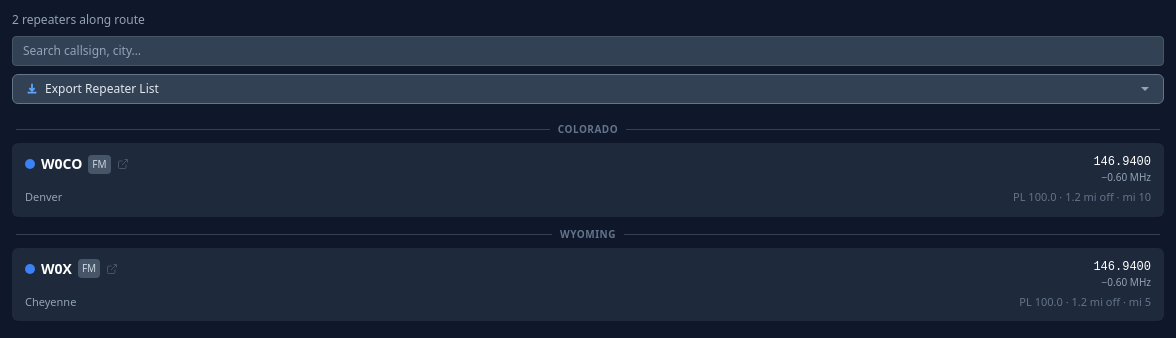
Test: RepeaterList — search › filters by city (case-insensitive)
The width and height of the screenshot is (1176, 338).
Type "chey" into the search field with placeholder "Search callsign, city…" at (588,51), box [12,36,1164,66]
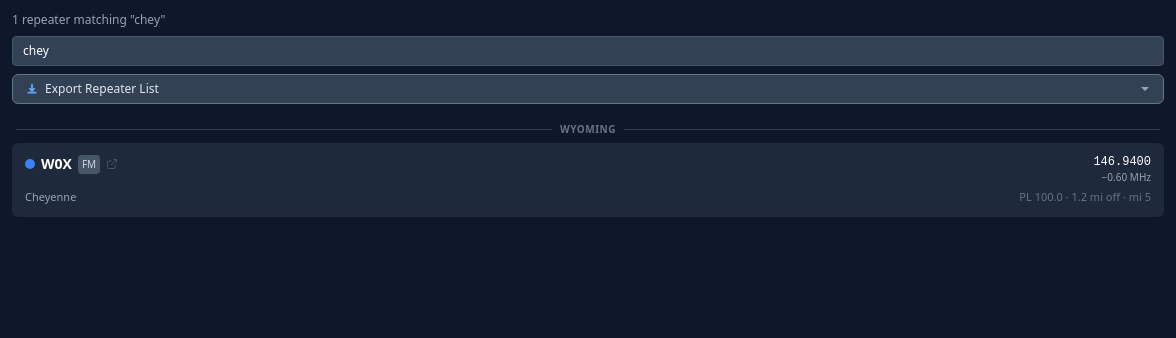
Expected: the text "W0X" is shown, [41,154,72,174]
Result: the text "W0CO" is gone
